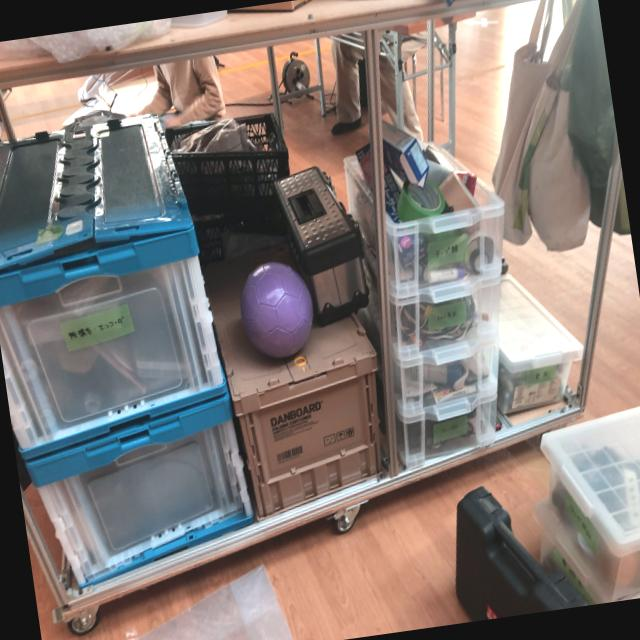purple_ball: (234, 258, 320, 362)
